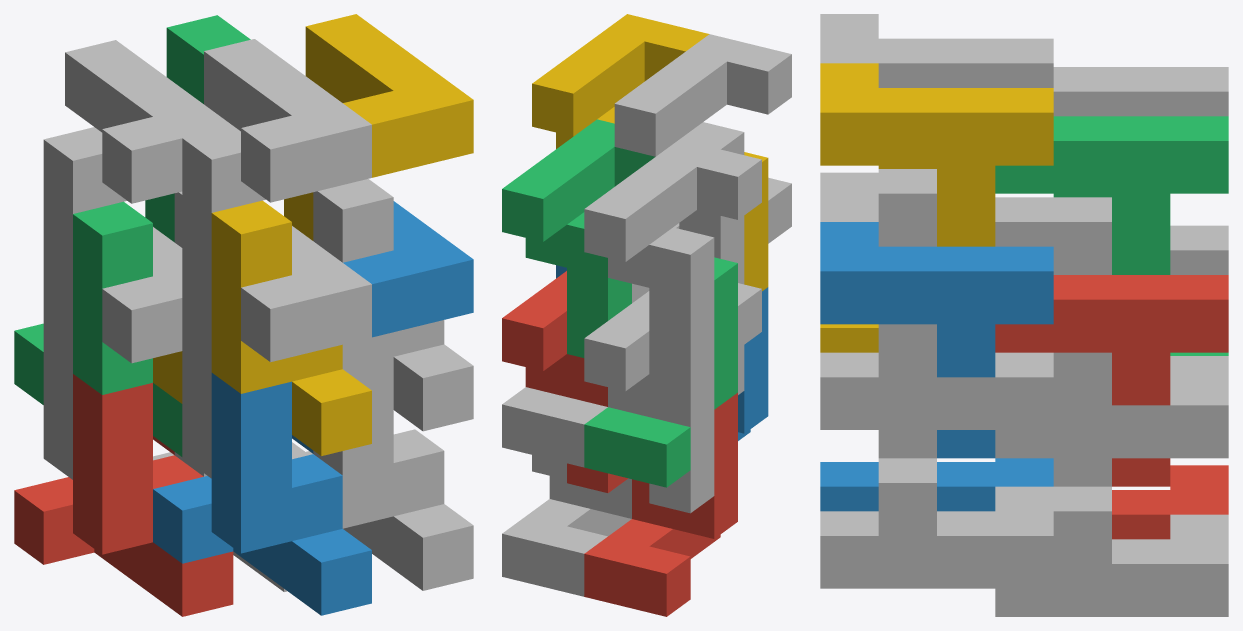
Rendered from tiling.obj.
The picture shows the model from 3 angles, left to right: view 1: azimuth 30°, elevation 25°; view 2: azimuth 150°, elevation 25°; view 3: azimuth 270°, elevation 25°; orthographic projection. The views are drawn at different scales.
Parts seen in each view (by area): view 1: copy_1_domain_2, copy_2_domain_4, copy_1_domain_1, copy_2_domain_3, copy_1_domain_4, copy_1_domain_6, copy_2_domain_8, copy_2_domain_2, copy_1_domain_3, copy_1_domain_8, copy_2_domain_1, copy_2_domain_6 (+1 smaller); view 2: copy_2_domain_3, copy_2_domain_4, copy_2_domain_7, copy_1_domain_1, copy_2_domain_1, copy_2_domain_8, copy_1_domain_3, copy_1_domain_5, copy_2_domain_5, copy_1_domain_7, copy_1_domain_2, copy_1_domain_4 (+1 smaller); view 3: copy_2_domain_6, copy_1_domain_6, copy_2_domain_8, copy_1_domain_8, copy_1_domain_7, copy_1_domain_5, copy_2_domain_5, copy_2_domain_7, copy_2_domain_4, copy_2_domain_3, copy_1_domain_2, copy_2_domain_2 (+3 smaller).
Boxes of the visible parts, box(x1,y1,x2,y2) form: copy_1_domain_2: box(153, 373, 371, 615); copy_2_domain_4: box(182, 39, 371, 318); copy_1_domain_1: box(14, 374, 233, 616); copy_2_domain_3: box(43, 40, 232, 320); copy_1_domain_4: box(153, 200, 371, 456); copy_1_domain_6: box(292, 357, 473, 590); copy_2_domain_8: box(284, 14, 473, 240); copy_2_domain_2: box(182, 226, 371, 478); copy_1_domain_3: box(14, 201, 182, 456); copy_1_domain_8: box(313, 179, 473, 431); copy_2_domain_1: box(43, 227, 182, 479); copy_2_domain_6: box(292, 201, 473, 453); copy_2_domain_3: box(584, 139, 761, 383); copy_2_domain_4: box(614, 34, 791, 265); copy_2_domain_7: box(502, 119, 655, 357); copy_1_domain_1: box(584, 392, 737, 616); copy_2_domain_1: box(584, 283, 761, 513); copy_2_domain_8: box(532, 14, 709, 148); copy_1_domain_3: box(584, 257, 737, 487); copy_1_domain_5: box(502, 459, 631, 596); copy_2_domain_5: box(502, 271, 627, 492); copy_1_domain_7: box(502, 283, 649, 467); copy_1_domain_2: box(738, 287, 768, 440); copy_1_domain_4: box(744, 152, 768, 291); copy_2_domain_6: box(820, 222, 1053, 458); copy_1_domain_6: box(820, 430, 1053, 588); copy_2_domain_8: box(820, 63, 1053, 246); copy_1_domain_8: box(820, 169, 1053, 429); copy_1_domain_7: box(995, 197, 1228, 458); copy_1_domain_5: box(995, 458, 1228, 616); copy_2_domain_5: box(995, 275, 1228, 486); copy_2_domain_7: box(995, 116, 1228, 274); copy_2_domain_4: box(820, 14, 1053, 87); copy_2_domain_3: box(1053, 67, 1228, 116); copy_1_domain_2: box(820, 458, 1053, 511); copy_2_domain_2: box(820, 172, 1053, 246).
Size of the model in its own units: 5 by 10 by 7.
